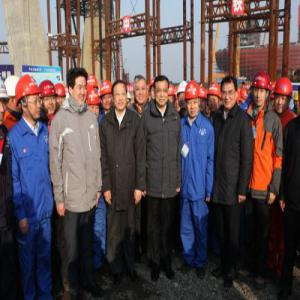none: (68, 68, 89, 106), (112, 80, 129, 114), (222, 77, 239, 111), (154, 76, 171, 108), (134, 74, 149, 108)
red: (16, 75, 42, 122), (251, 72, 272, 108), (274, 75, 293, 114), (40, 80, 57, 118), (185, 81, 201, 120), (99, 80, 114, 112), (86, 88, 101, 119), (209, 83, 221, 111), (55, 83, 66, 110), (198, 86, 208, 115)
white: (5, 76, 22, 114), (2, 80, 9, 127), (178, 80, 188, 110)
